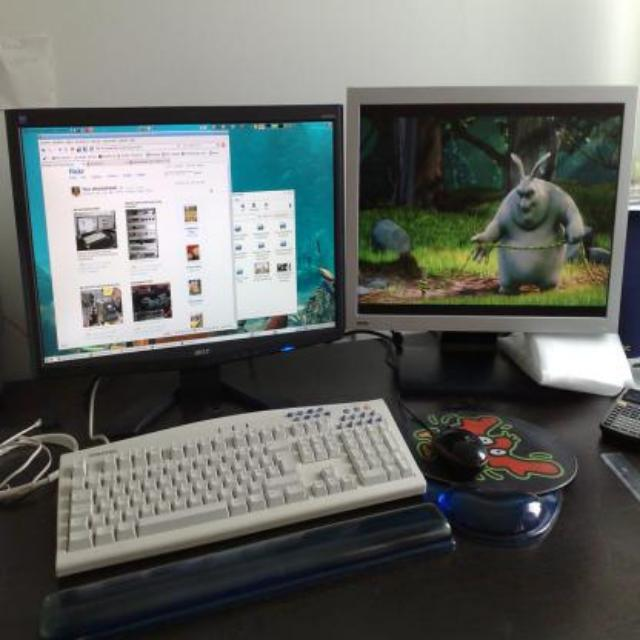Computer-Keyboard: (51, 396, 435, 576)
Flat-Panel-Monitor: (5, 100, 352, 380), (352, 81, 628, 345)
